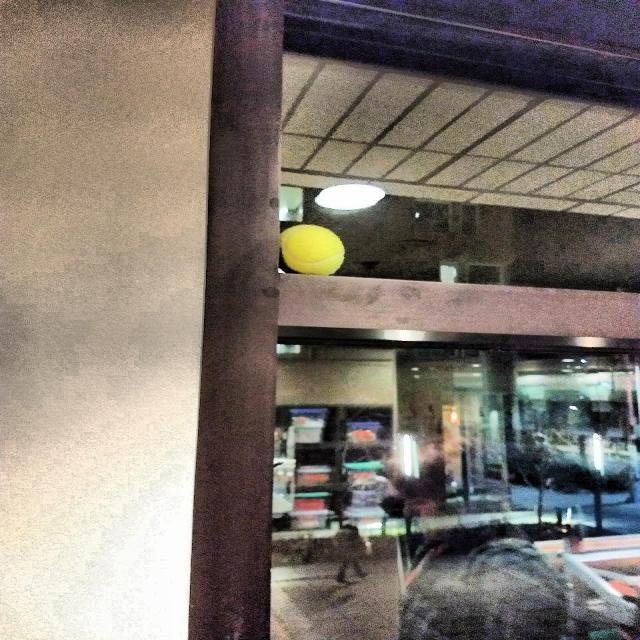tennis-ball: (277, 221, 345, 279)
